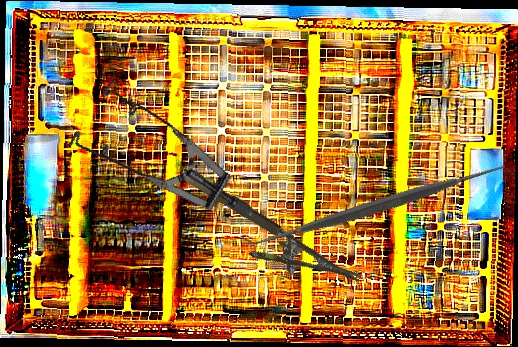Needle Holder: (164, 165, 362, 312)
Spatula Surgical: (239, 66, 516, 345)
Speculum: (49, 48, 258, 276)
